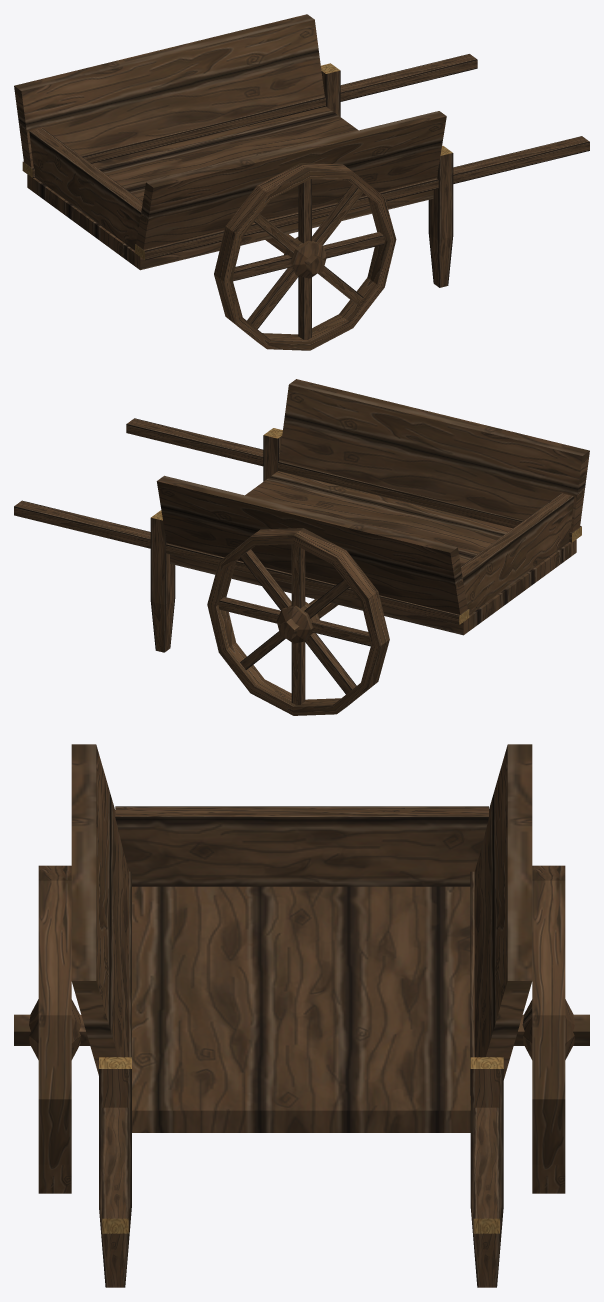
File: Cart_a.FBX
3 views of the same model, one above another, from view 1: azimuth 30°, elevation 25°; view 2: azimuth 150°, elevation 25°; view 3: azimuth 270°, elevation 25° (orthographic). The views are drawn at different scales.
Parts seen in each view (by area): view 1: Cart_1, Cart_Wheels; view 2: Cart_1, Cart_Wheels; view 3: Cart_1, Cart_Wheels.
Boxes of the visible parts, x1,y1,x2,y2 form: Cart_1: (14, 14, 589, 287); Cart_Wheels: (214, 163, 396, 350); Cart_1: (14, 379, 589, 652); Cart_Wheels: (207, 528, 389, 715); Cart_1: (71, 744, 532, 1287); Cart_Wheels: (14, 865, 589, 1193).
Bounding box in the file's own units: 163 × 110 × 66.79.
